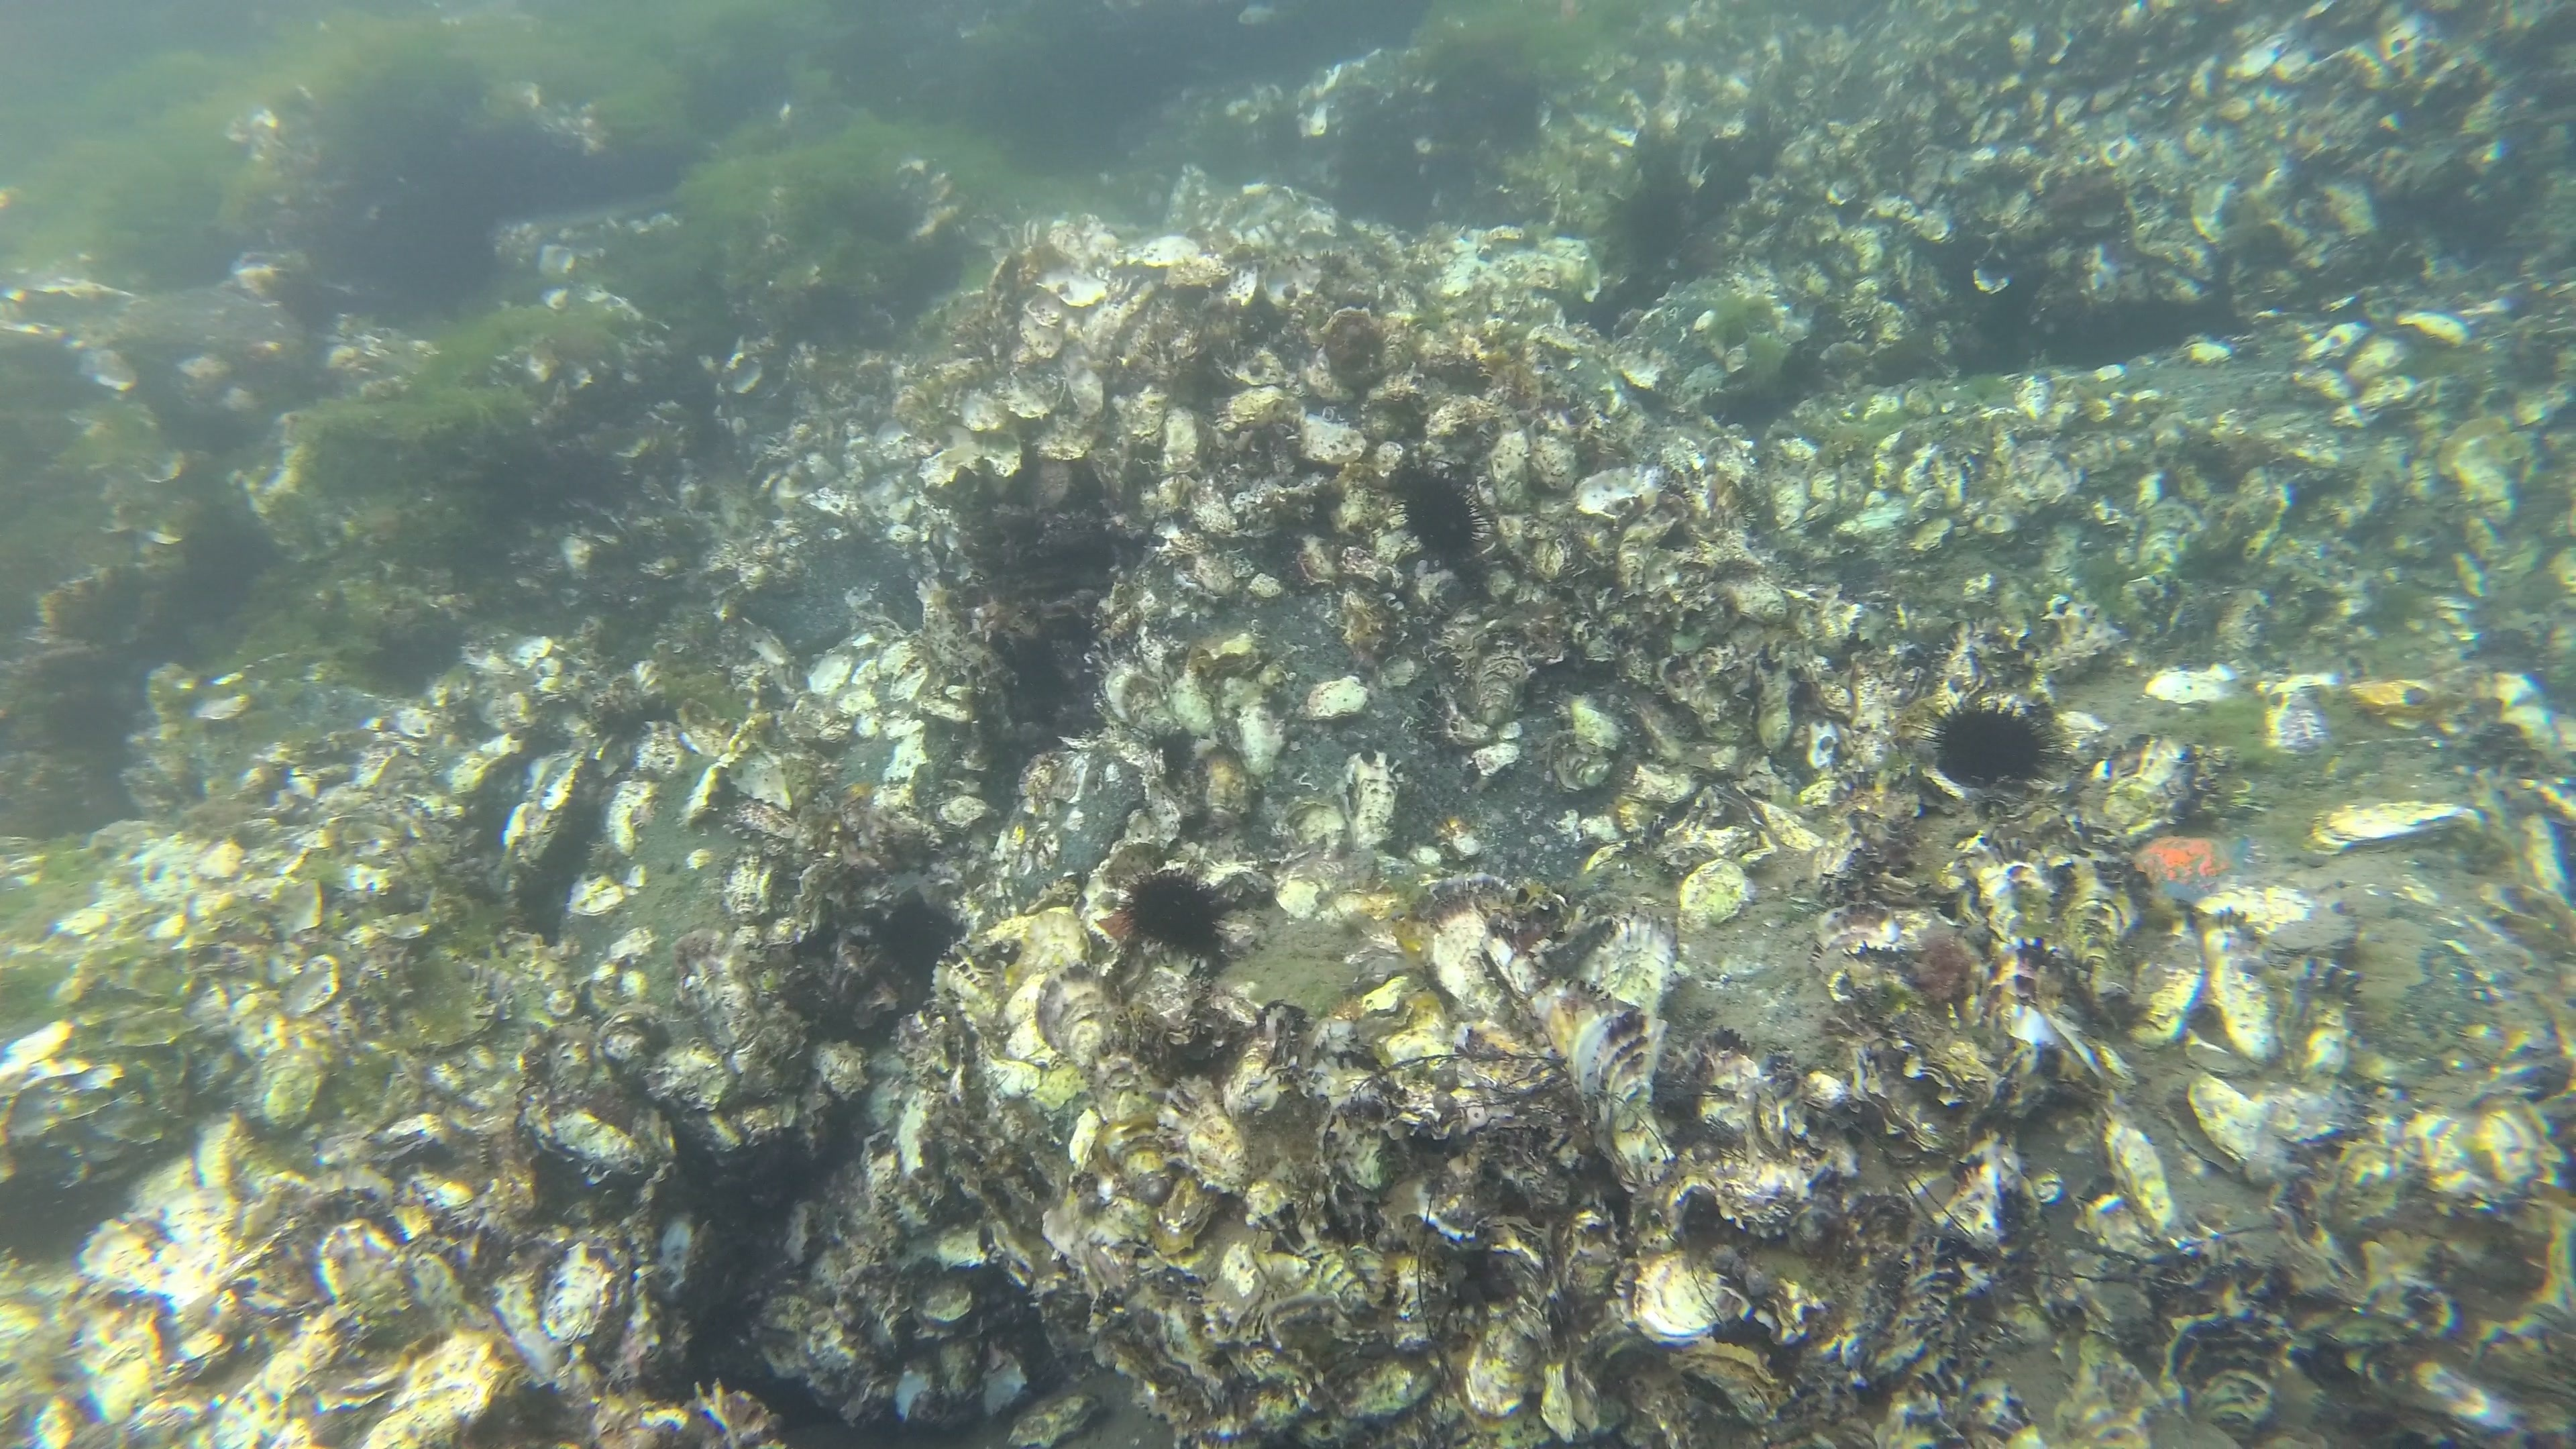echinus: (1916, 695, 2063, 794), (1122, 858, 1238, 971), (1389, 451, 1490, 577)
starfish: (2127, 821, 2250, 915)
